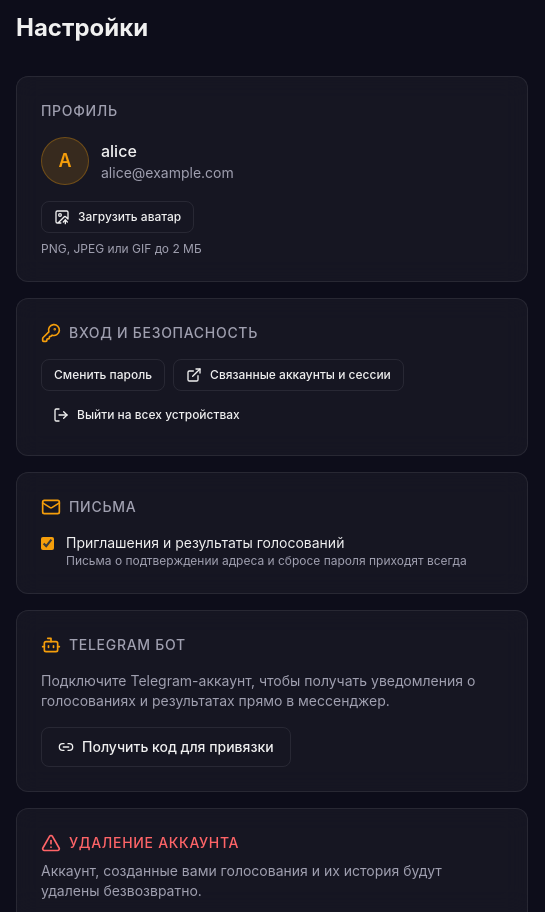
Test case: SettingsPage › requests a link token and shows the /link command
Click the button "Получить код для привязки" at (166, 747), box [41, 727, 291, 767]
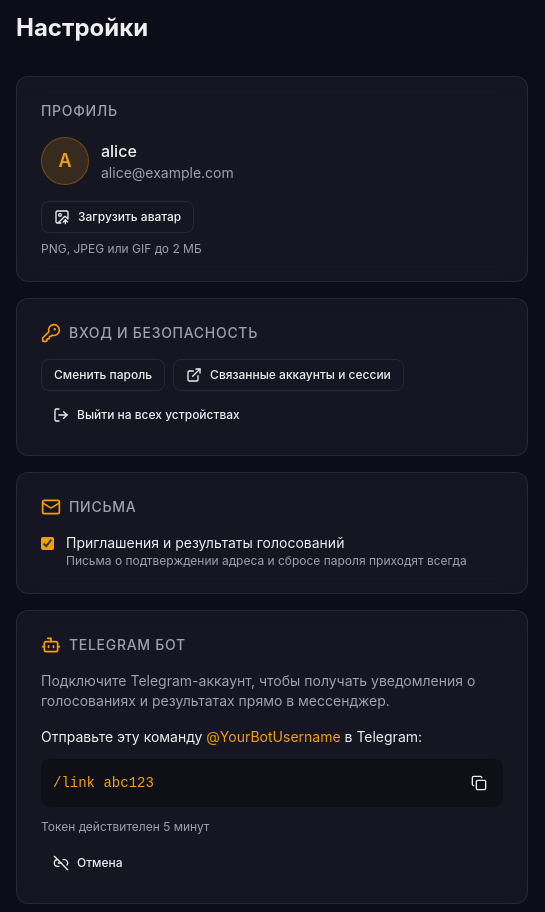
Result: the text "/link abc123" is shown at [53, 775, 154, 791]
Result: the text "Токен действителен 5 минут" is shown at [41, 819, 209, 834]
